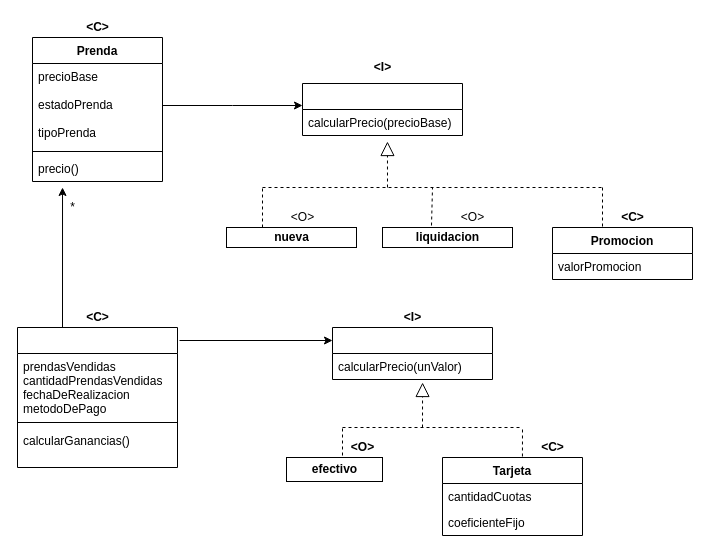
This 710x555 diagram has some shape labels left out. Each missing label, with the box of its shape:
Estado: (302, 82, 462, 136)
Método de Pago: (332, 326, 492, 380)
Venta: (16, 326, 178, 468)
